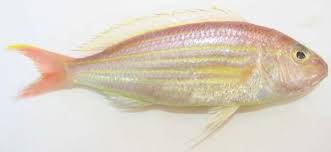Ikan Kerisi: (23, 19, 328, 111)
